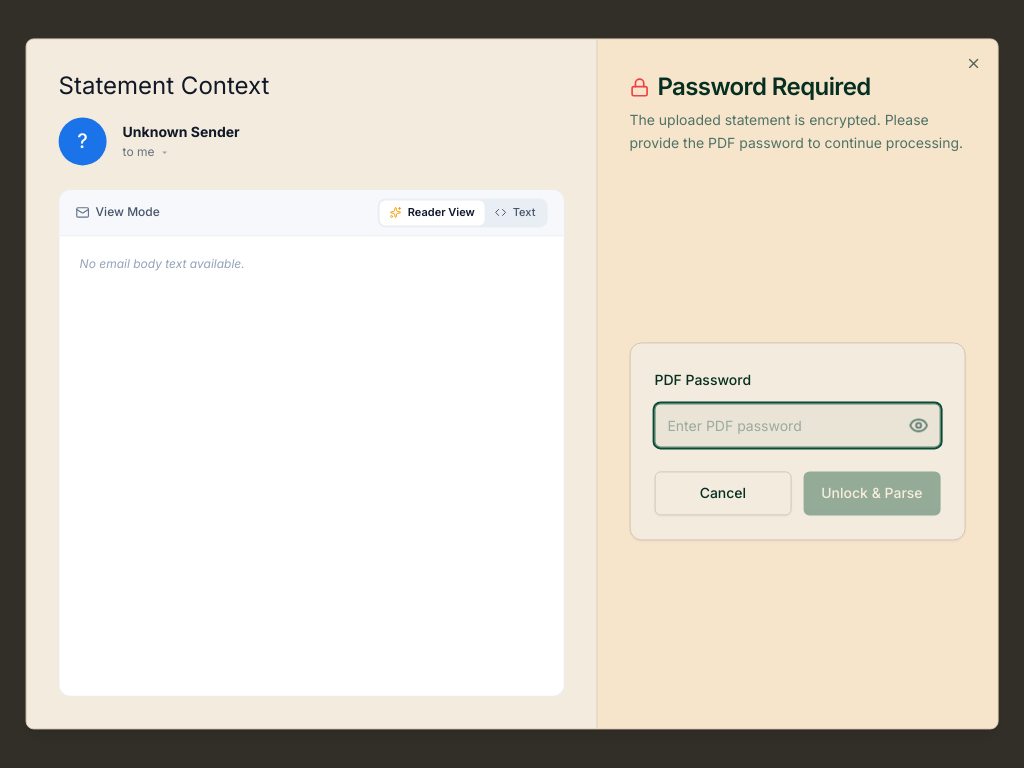
Test case: PasswordPromptModal submission › reports a wrong password rather than failing silently
Type "nope" into the password field labelled "PDF Password".
click(797, 426); type("nope")  # box [654,404,940,448]
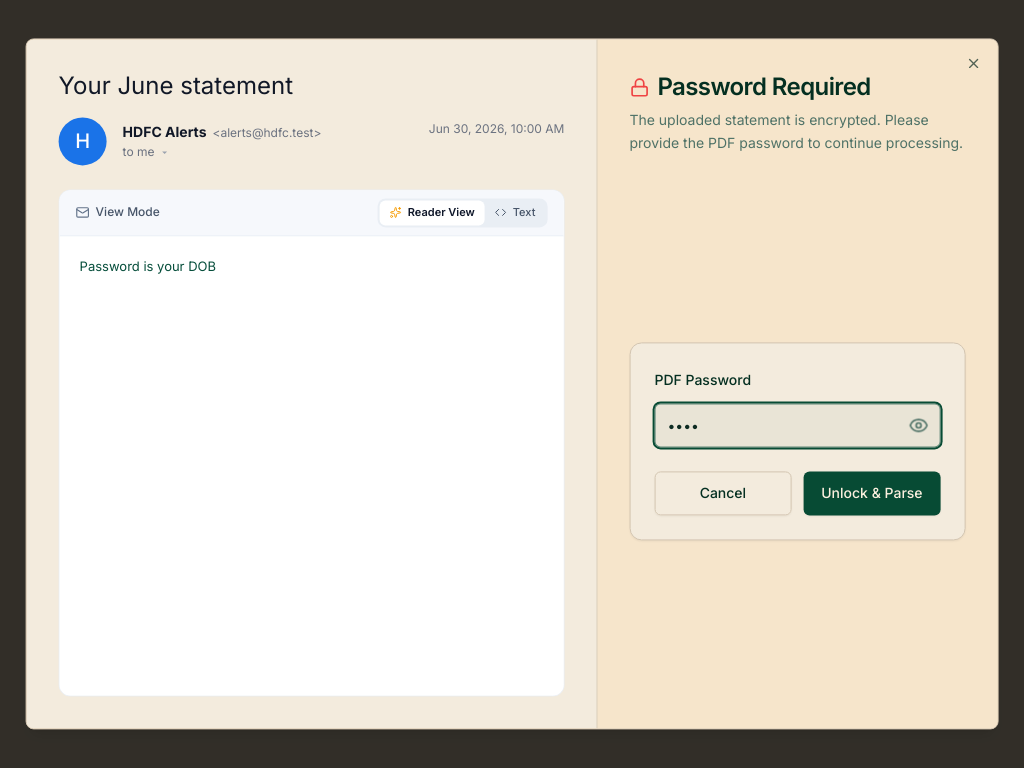
Click the button with aria-label "Submit PDF password".
click(872, 494)  # box [803,472,940,516]
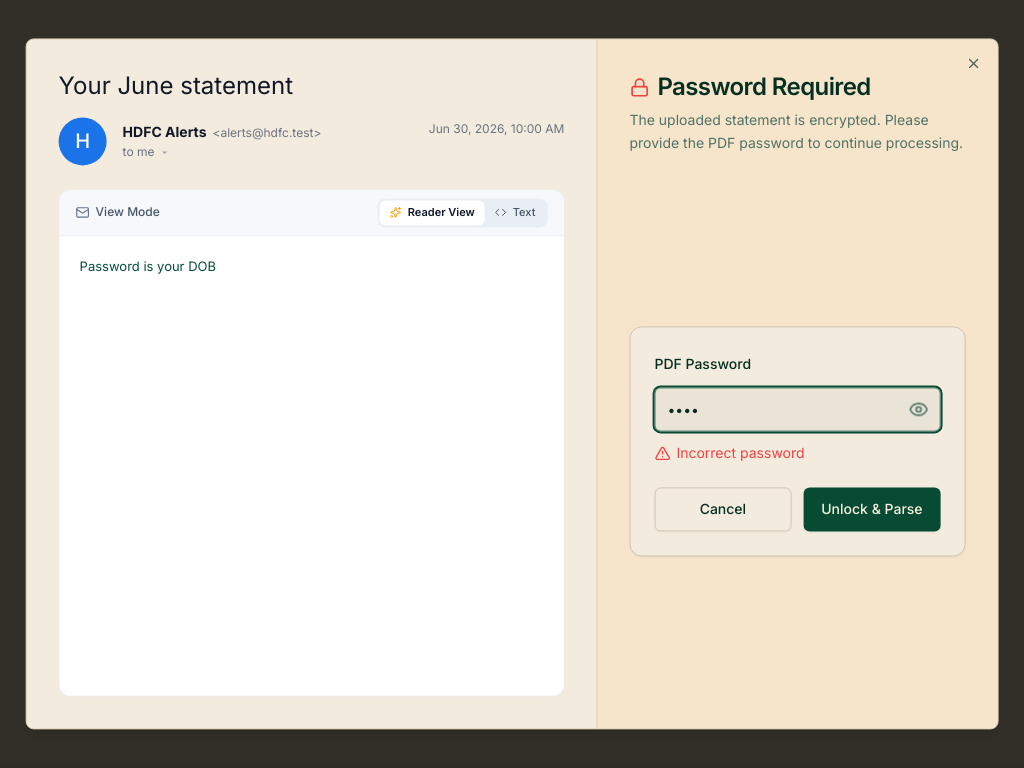
Expected: the message reads "Incorrect password", [676,445,805,462]
